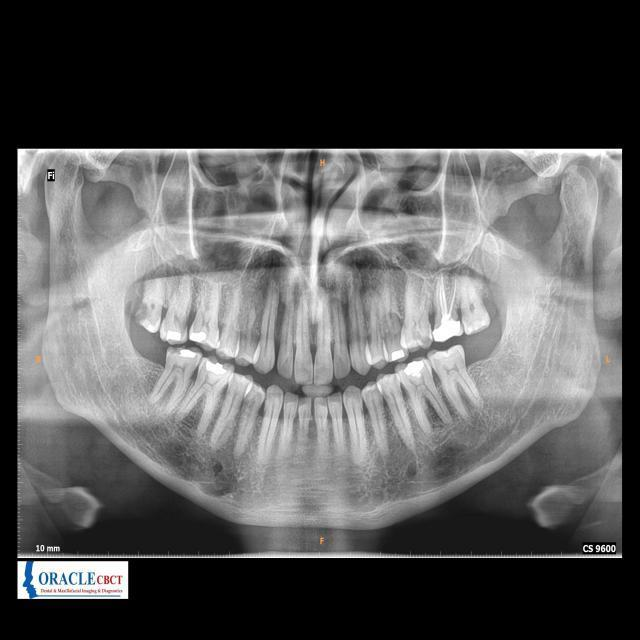dentin-curugu: (132, 295, 152, 325)
dolgu: (401, 356, 428, 387), (198, 357, 230, 381), (170, 344, 201, 366), (382, 342, 408, 361)
kanal-tedavisi: (426, 275, 458, 317)
kaplama: (431, 314, 464, 340)
